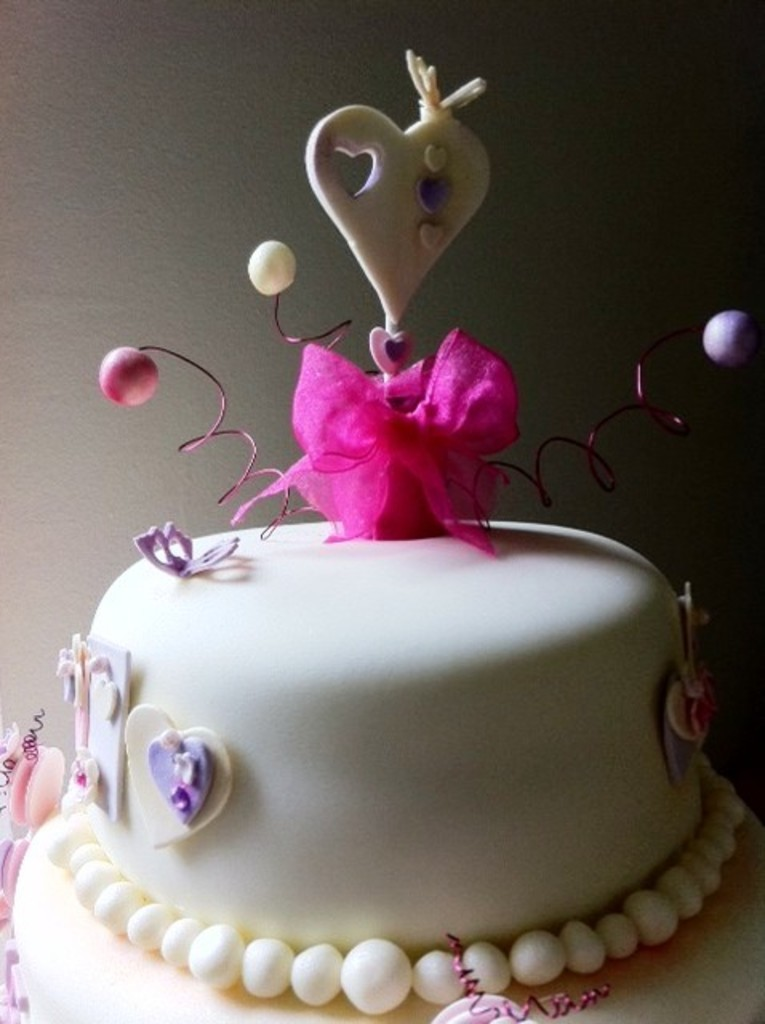cake: (13, 30, 763, 1022)
